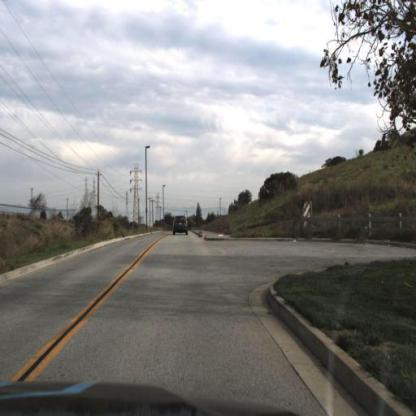car: (171, 211, 189, 238)
